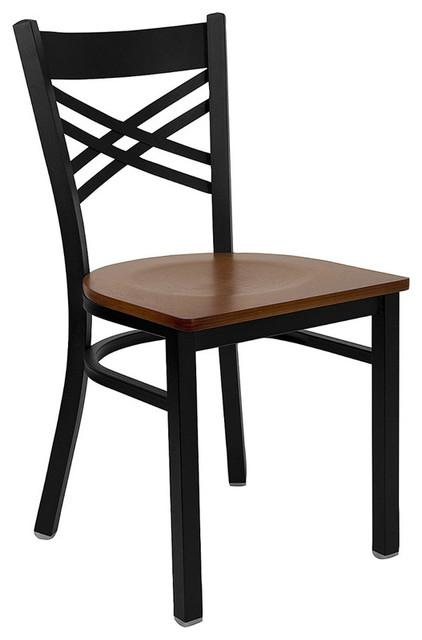chair: (10, 15, 414, 636)
